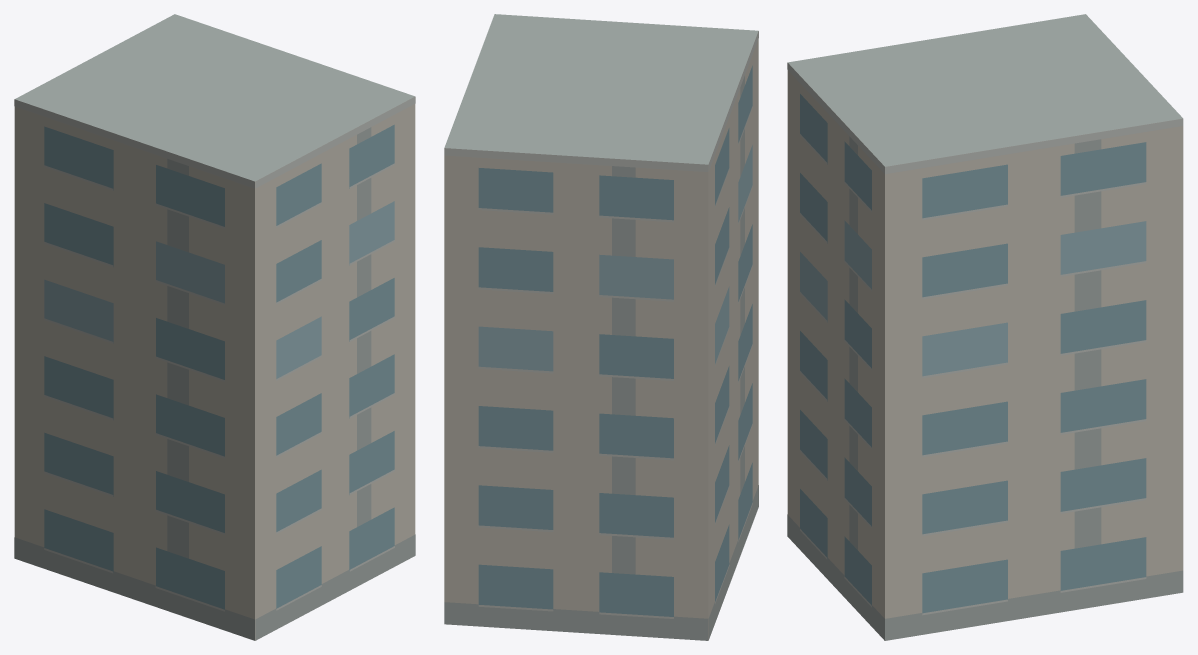
File: survey-upis-32579591.glb
The picture shows the model from 3 angles, left to right: view 1: azimuth 30°, elevation 25°; view 2: azimuth 150°, elevation 25°; view 3: azimuth 270°, elevation 25°; orthographic projection. The views are drawn at different scales.
Visible parts, largest first — view 1: survey-upis-32579591.tmp; view 2: survey-upis-32579591.tmp; view 3: survey-upis-32579591.tmp.
Part boxes in pixels (x1,y1,x2,y2): survey-upis-32579591.tmp: (14,14,415,640); survey-upis-32579591.tmp: (444,14,758,640); survey-upis-32579591.tmp: (787,14,1183,640).
Bounding box in the file's own units: 10.83 × 15.65 × 11.86.
